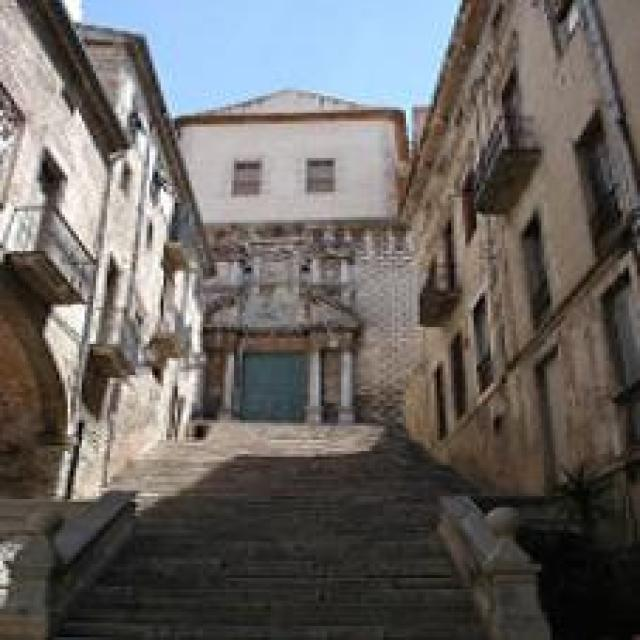stair: (85, 412, 488, 629)
